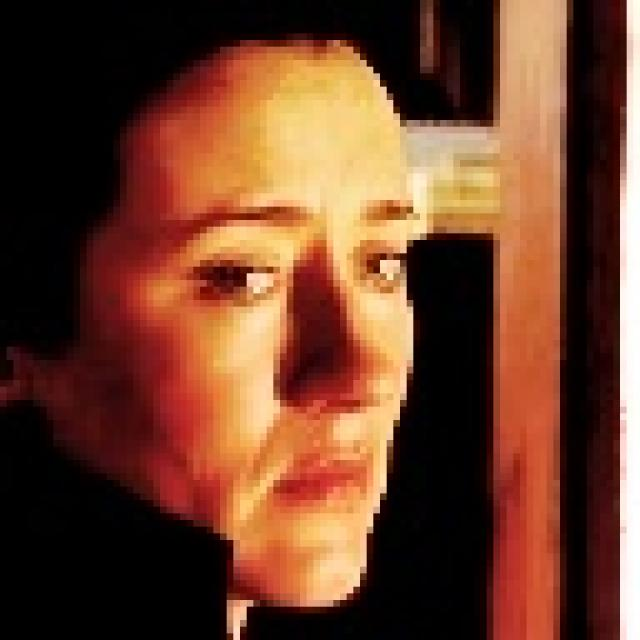sad: (50, 18, 434, 622)
